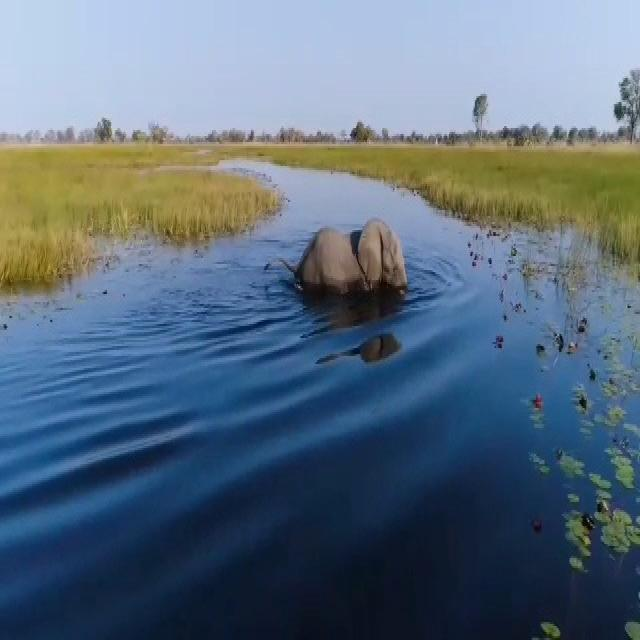Elephant: (272, 220, 425, 311)
